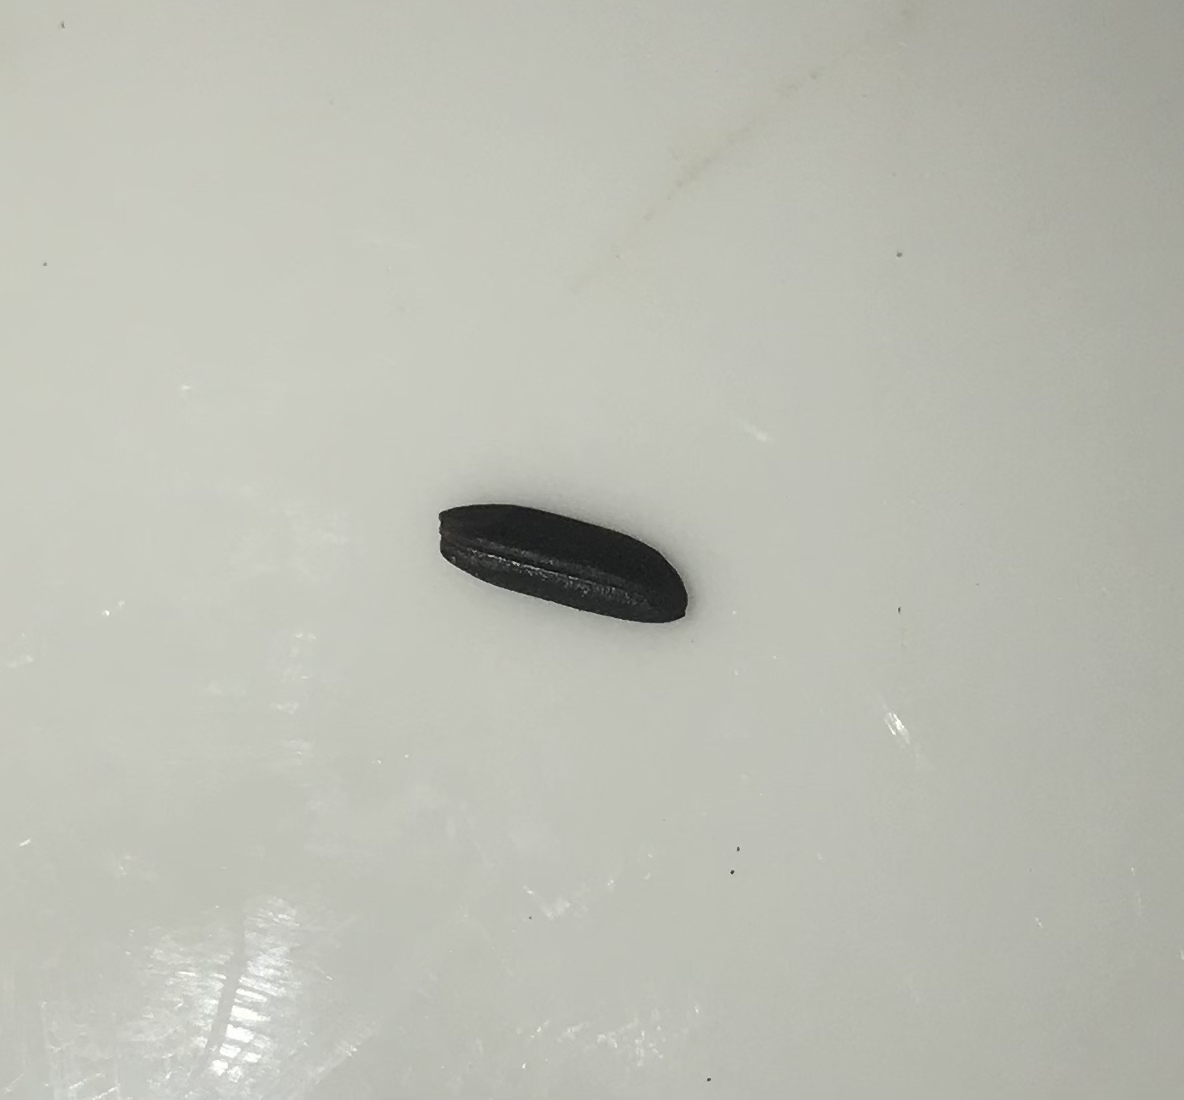Gao lut: (424, 489, 712, 646)
